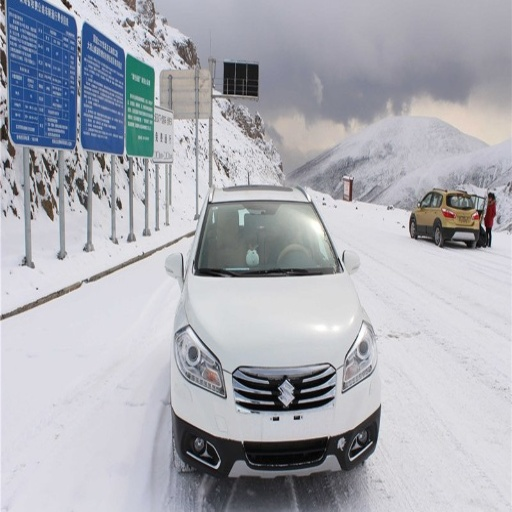front_bumper: (173, 364, 380, 475)
front_right_light: (175, 324, 225, 395)
hood: (186, 273, 360, 368)
